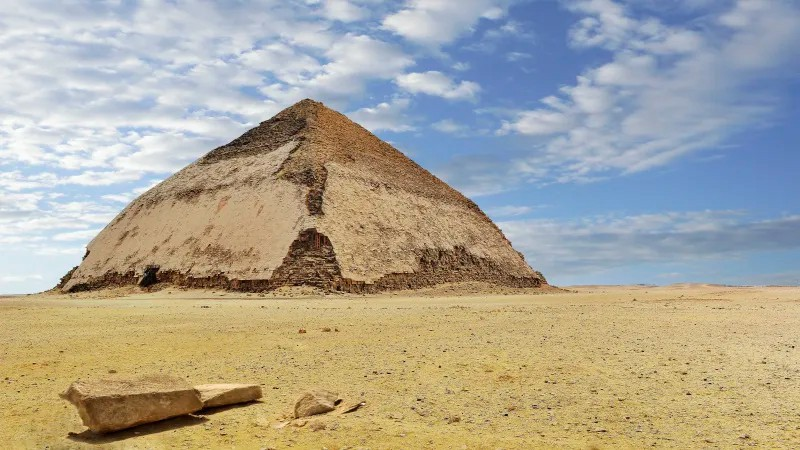Pyramid: (48, 98, 563, 294)
